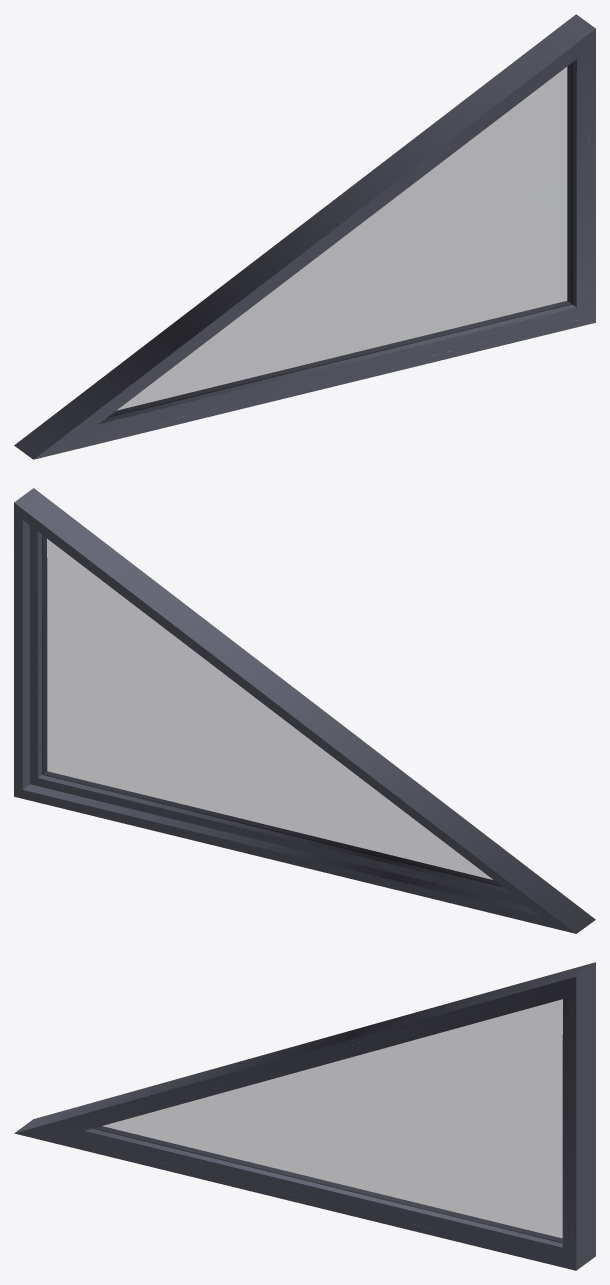
Rendered from SM_Window_Triangle_Quart_01.glb.
3 renders of one model, top to bottom at view 1: azimuth 30°, elevation 25°; view 2: azimuth 150°, elevation 25°; view 3: azimuth 330°, elevation 25°, orthographic.
Visible parts, largest first — view 1: SM_Window_Triangle_Quart_01; view 2: SM_Window_Triangle_Quart_01; view 3: SM_Window_Triangle_Quart_01.
Part boxes in pixels (left/top/right/bottom): SM_Window_Triangle_Quart_01: left=14, top=14, right=595, bottom=459; SM_Window_Triangle_Quart_01: left=14, top=488, right=595, bottom=933; SM_Window_Triangle_Quart_01: left=14, top=962, right=595, bottom=1270.
Bounding box in the file's own units: 4 × 2 × 0.2434.
Materials: 2 (2 with a texture image).
